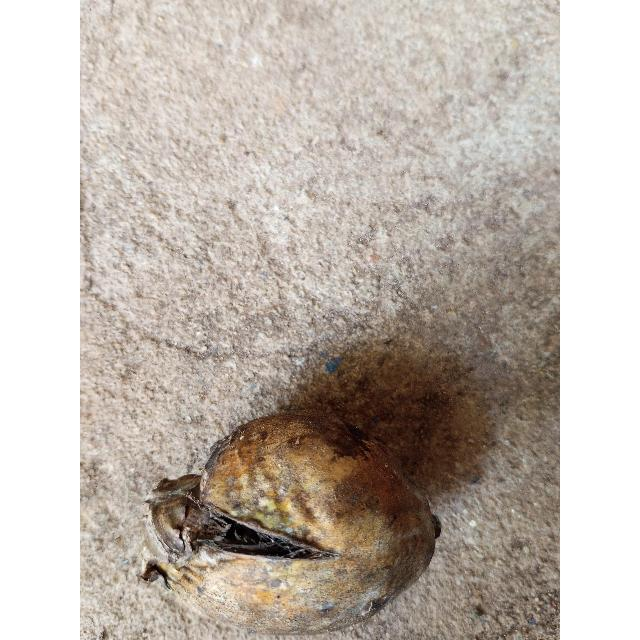damaged: (141, 411, 439, 634)
